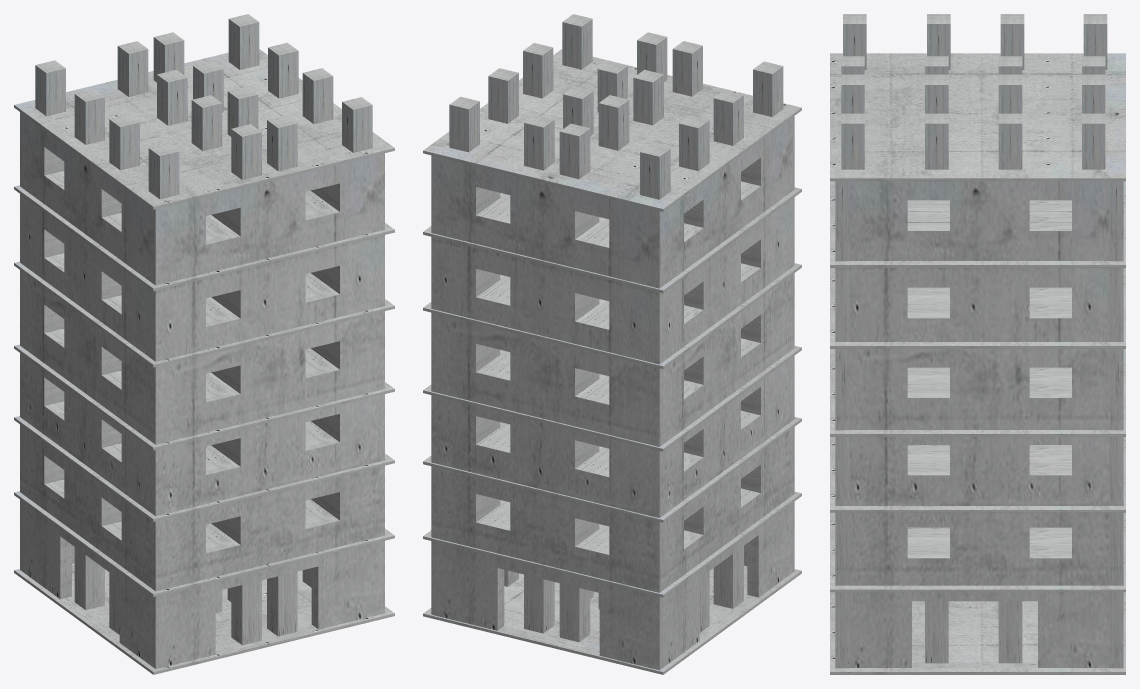
The model's file is constructionplant2.FBX.
3 renders of one model, left to right at view 1: azimuth 30°, elevation 25°; view 2: azimuth 150°, elevation 25°; view 3: azimuth 270°, elevation 25°, orthographic. The views are drawn at different scales.
Visible parts, largest first — view 1: Box001; view 2: Box001; view 3: Box001.
Part boxes in pixels (x1,y1,x2,y2): Box001: [14, 14, 394, 674]; Box001: [423, 14, 801, 674]; Box001: [830, 14, 1125, 674].
Size of the model in its own units: 128 by 128 by 259.
1 material, 1 textured.
